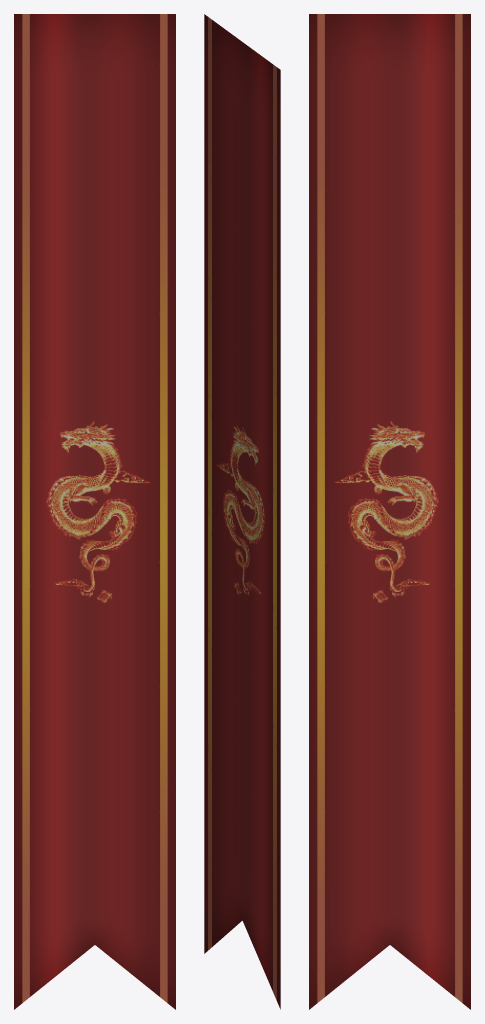
The model's file is flag.FBX.
The picture shows the model from 3 angles, left to right: view 1: azimuth 90°, elevation 25°; view 2: azimuth 210°, elevation 25°; view 3: azimuth 270°, elevation 25°; orthographic projection. The views are drawn at different scales.
Visible parts, largest first — view 1: Plane004; view 2: Plane004; view 3: Plane004.
Boxes of the visible parts, box(x1,y1,x2,y2) form: Plane004: box(14, 14, 175, 1009); Plane004: box(204, 14, 280, 1009); Plane004: box(309, 14, 470, 1009).
Size of the model in its own units: 5.64e-05 by 1290 by 190.
1 material, 1 textured.
